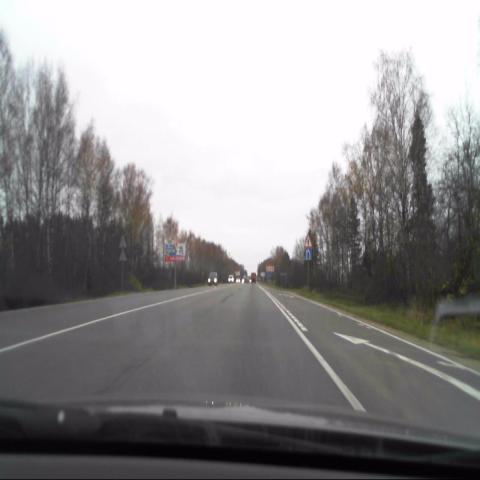2_3_3: (304, 234, 311, 247)
5_15_5: (305, 248, 312, 261)
